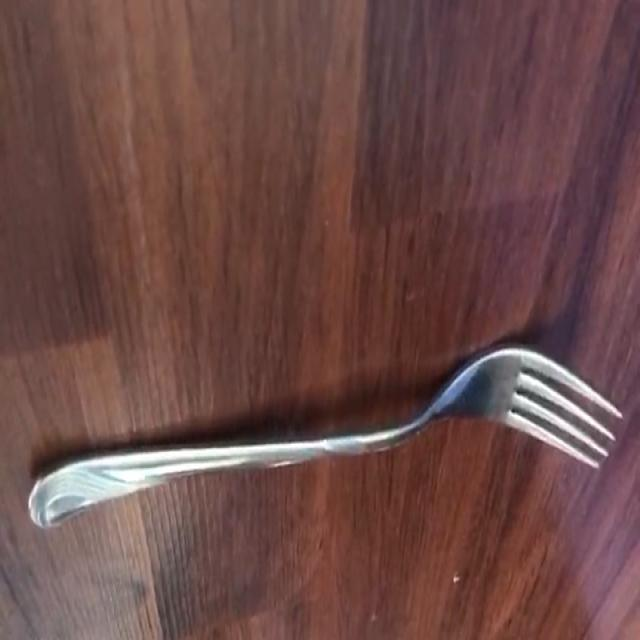spoon: (30, 348, 622, 528)
